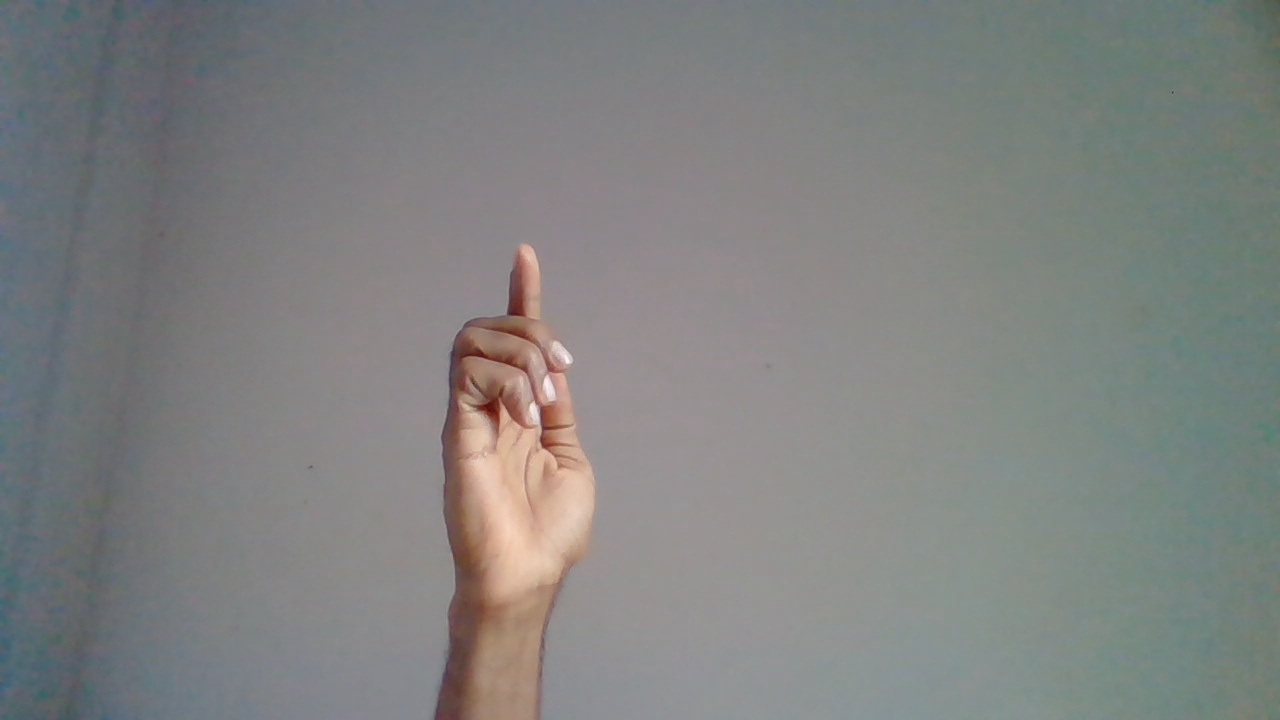qe: (440, 250, 604, 668)
